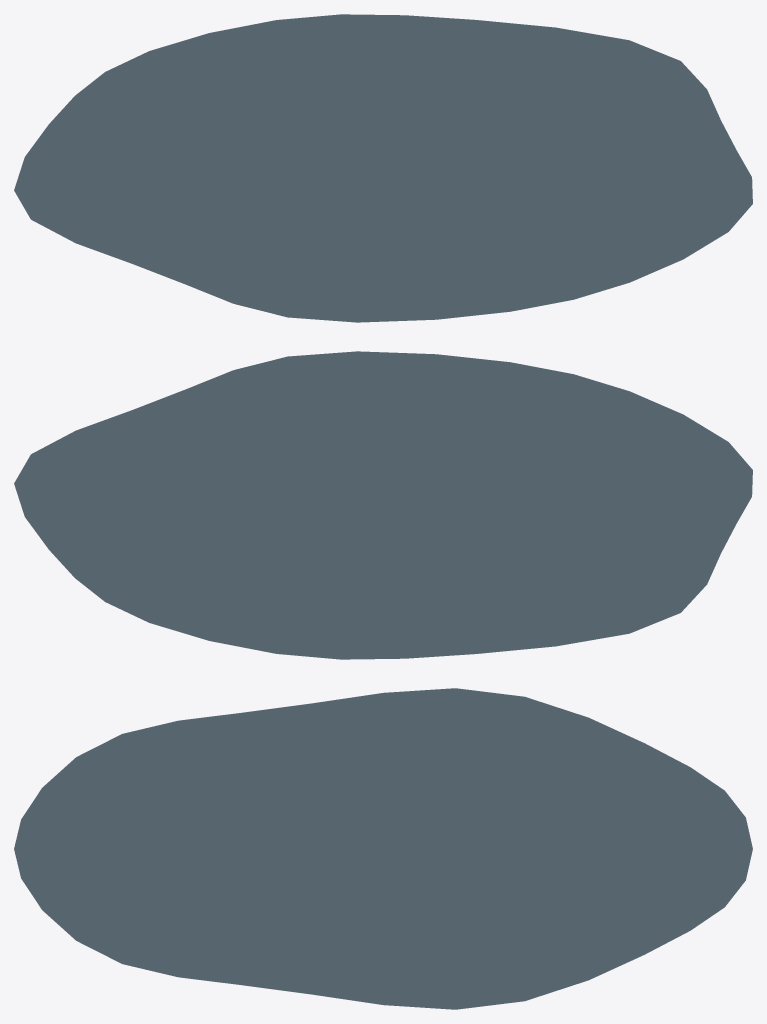
The model's file is MS_AT_06_PuddleRound.glb.
3 views of the same model, one above another, from view 1: azimuth 30°, elevation 25°; view 2: azimuth 150°, elevation 25°; view 3: azimuth 270°, elevation 25° (orthographic).
Visible parts, largest first — view 1: ShallowWaterSurface.001; view 2: ShallowWaterSurface.001; view 3: ShallowWaterSurface.001.
Boxes of the visible parts, x1,y1,x2,y2 form: ShallowWaterSurface.001: [14, 14, 752, 322]; ShallowWaterSurface.001: [14, 351, 752, 659]; ShallowWaterSurface.001: [14, 688, 752, 1009].
Size of the model in its own units: 1.44 by 0 by 1.4.
